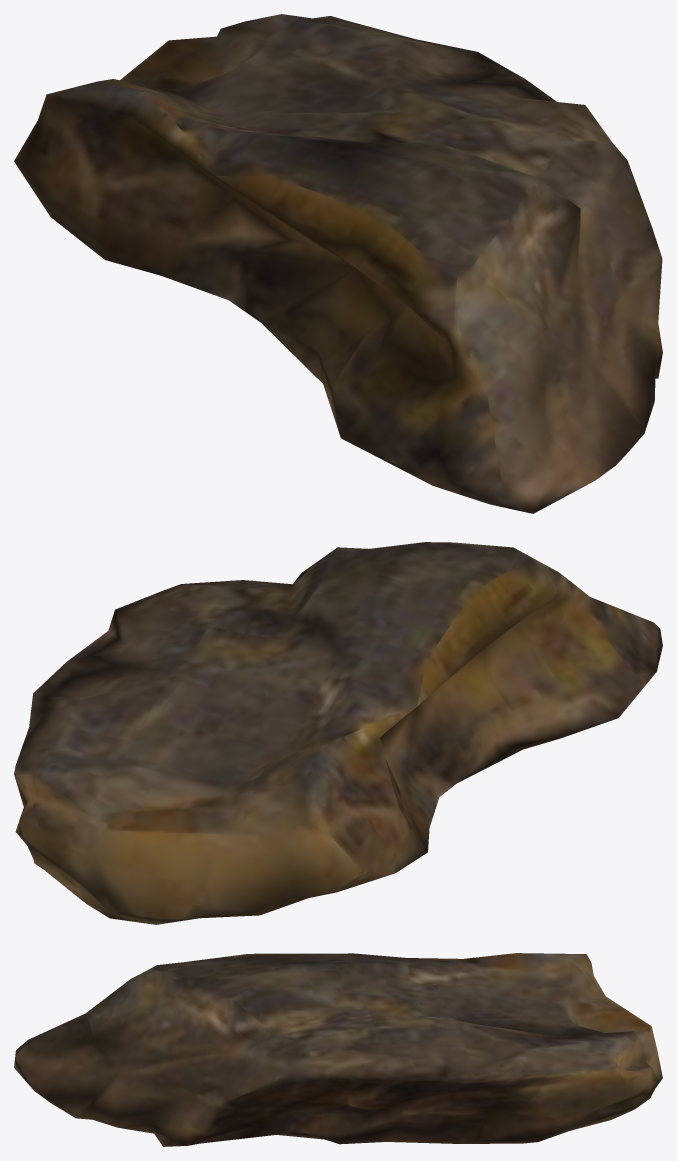
Rendered from rock_a.glb.
The picture shows the model from 3 angles, top to bottom: view 1: azimuth 30°, elevation 25°; view 2: azimuth 150°, elevation 25°; view 3: azimuth 270°, elevation 25°; orthographic projection. The views are drawn at different scales.
Visible parts, largest first — view 1: rock_09_LOD0; view 2: rock_09_LOD0; view 3: rock_09_LOD0.
Boxes of the visible parts, left/top/right/bottom form: rock_09_LOD0: left=14, top=14, right=662, bottom=513; rock_09_LOD0: left=14, top=542, right=662, bottom=924; rock_09_LOD0: left=14, top=953, right=662, bottom=1146.
Size of the model in its own units: 0.0738 by 0.0323 by 0.1444.
Materials: 1 (1 with a texture image).
